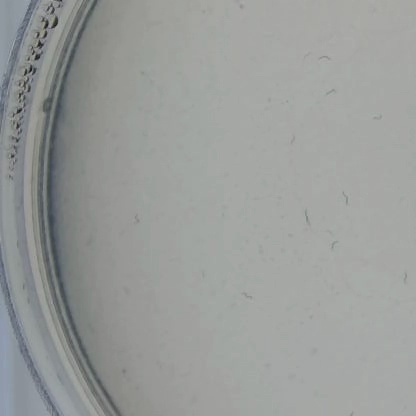worm: (334, 187, 356, 213), (297, 205, 317, 233), (320, 83, 343, 105), (323, 236, 345, 256), (397, 266, 411, 291), (130, 205, 144, 230), (239, 285, 255, 303), (370, 109, 385, 126), (288, 126, 299, 147), (317, 54, 335, 66), (303, 48, 316, 64), (329, 114, 340, 132), (235, 0, 250, 12)
